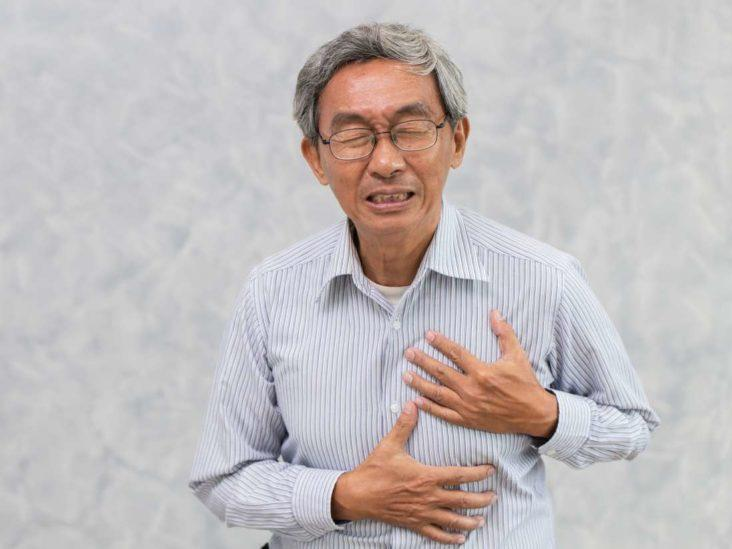pain: (318, 95, 440, 163)
